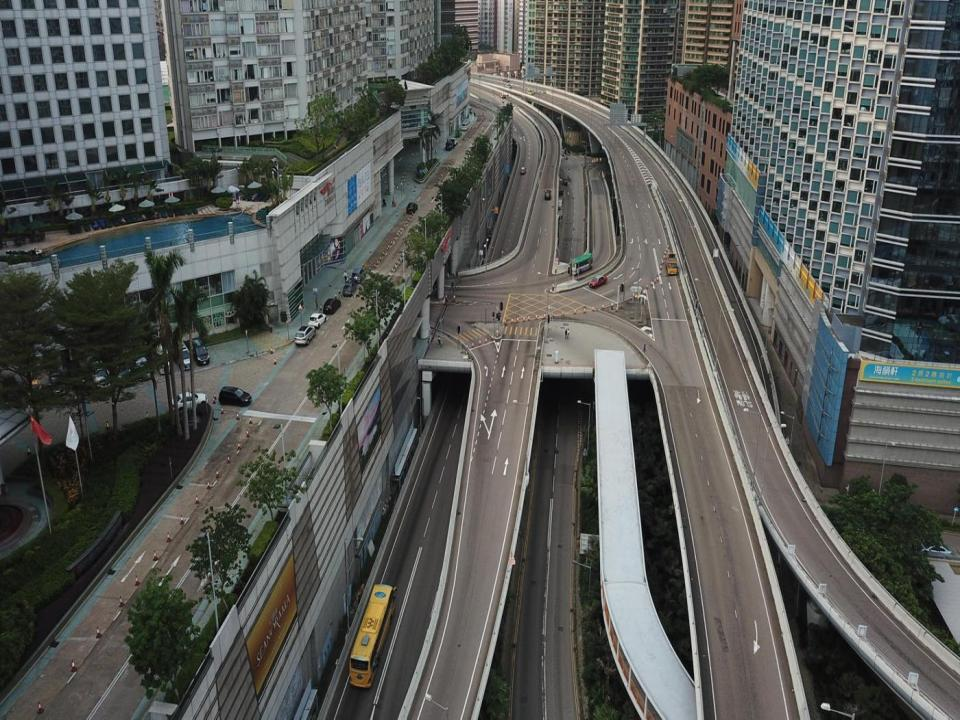bus: (349, 583, 398, 689), (569, 252, 593, 275), (552, 197, 564, 218), (564, 149, 570, 155)
car: (915, 537, 952, 562), (171, 392, 208, 412), (218, 387, 252, 406), (26, 380, 42, 403), (308, 312, 326, 329), (323, 298, 341, 314), (588, 274, 607, 289), (343, 282, 356, 296), (406, 202, 418, 214), (449, 137, 458, 146), (504, 83, 512, 90), (520, 166, 526, 174), (562, 179, 568, 186), (467, 107, 472, 114), (502, 78, 510, 82), (500, 93, 505, 99), (527, 90, 533, 95)
truck: (665, 253, 678, 275), (554, 178, 564, 196)
van: (156, 337, 174, 374), (112, 354, 132, 386), (66, 360, 85, 393), (172, 341, 193, 370), (90, 360, 110, 390), (3, 376, 20, 408), (190, 338, 209, 366), (48, 368, 66, 396), (134, 352, 151, 380), (295, 326, 316, 346), (352, 268, 366, 283), (461, 121, 469, 130), (446, 140, 453, 150), (544, 190, 550, 199)
